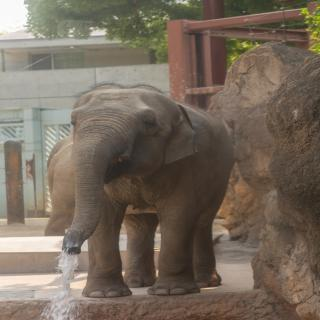Elephant: (48, 77, 246, 306)
